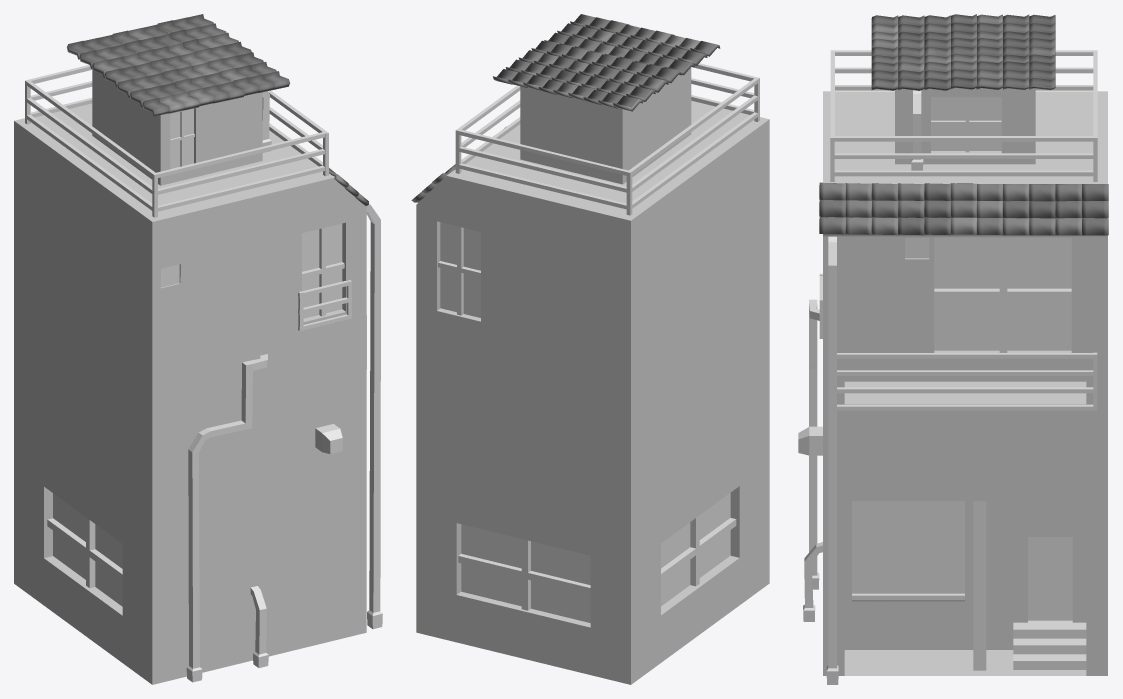
The model's file is Casa3.fbx.
The picture shows the model from 3 angles, left to right: view 1: azimuth 30°, elevation 25°; view 2: azimuth 150°, elevation 25°; view 3: azimuth 270°, elevation 25°; orthographic projection. The views are drawn at different scales.
Parts seen in each view (by area): view 1: Casa3; view 2: Casa3; view 3: Casa3.
Boxes of the visible parts, <box> form: Casa3: <box>14,14,382,684</box>; Casa3: <box>411,14,769,684</box>; Casa3: <box>798,14,1108,684</box>.
Size of the model in its own units: 900 by 2044 by 1011.
